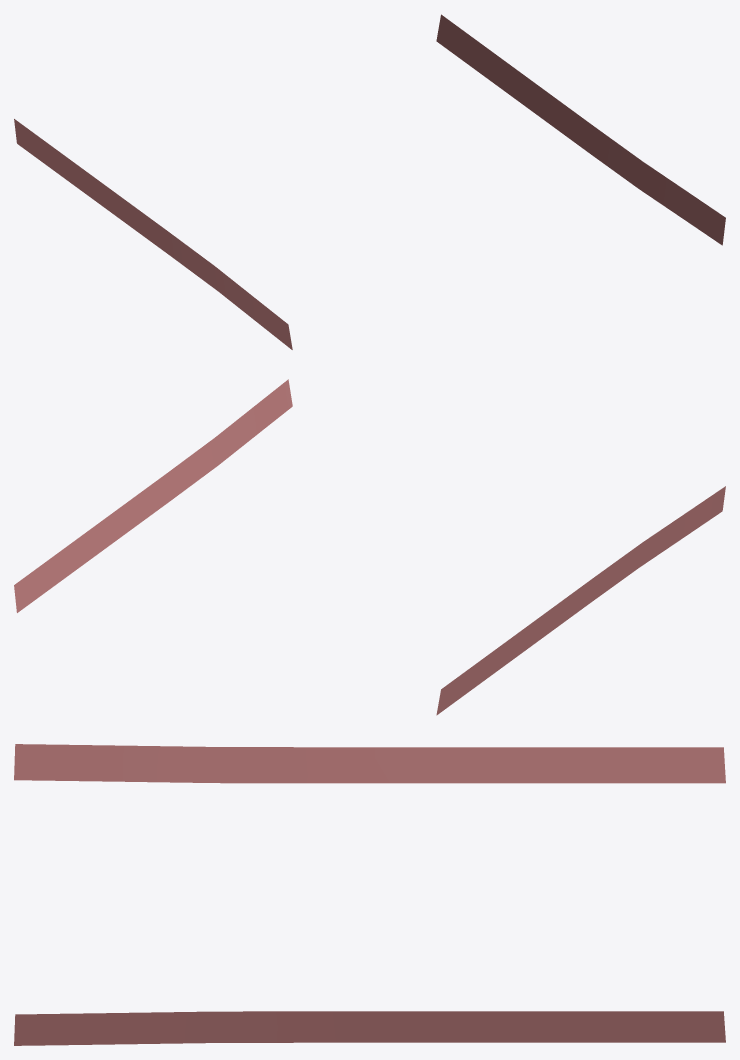
File: RX7_SideSkirt01_Trim.fbx
3 renders of one model, top to bottom at view 1: azimuth 30°, elevation 25°; view 2: azimuth 150°, elevation 25°; view 3: azimuth 270°, elevation 25°, orthographic. The views are drawn at different scales.
Parts seen in each view (by area): view 1: RX7_SideSkirt01_Trim; view 2: RX7_SideSkirt01_Trim; view 3: RX7_SideSkirt01_Trim.
Part boxes in pixels (x1=…): RX7_SideSkirt01_Trim: x1=14, y1=14, x2=725, y2=349; RX7_SideSkirt01_Trim: x1=14, y1=379, x2=725, y2=715; RX7_SideSkirt01_Trim: x1=14, y1=744, x2=725, y2=1045.
Size of the model in its own units: 156 by 9.08 by 173.
